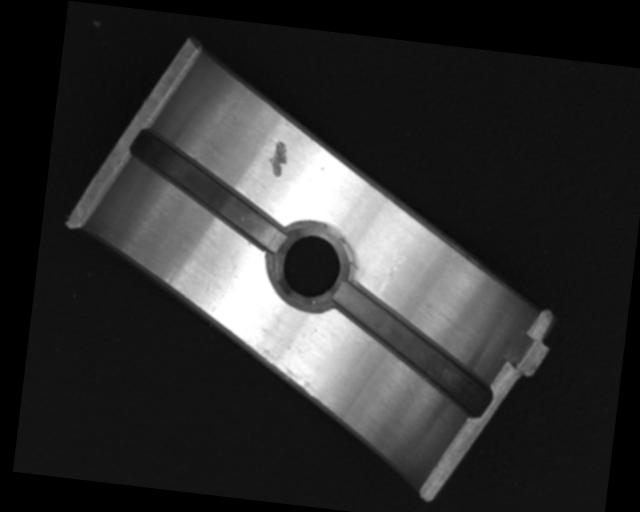bruise: (264, 138, 290, 179)
gap: (325, 279, 501, 420), (121, 125, 296, 251)
hole: (272, 218, 353, 310)
nick: (376, 245, 406, 298)
